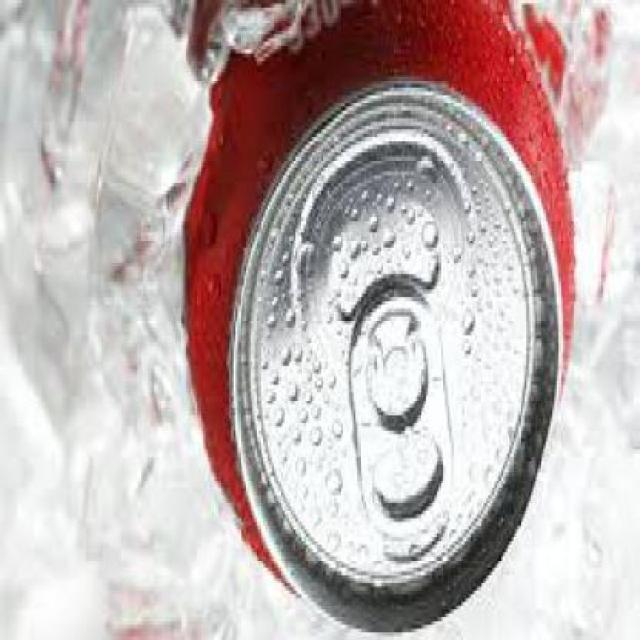metal: (184, 5, 574, 637)
